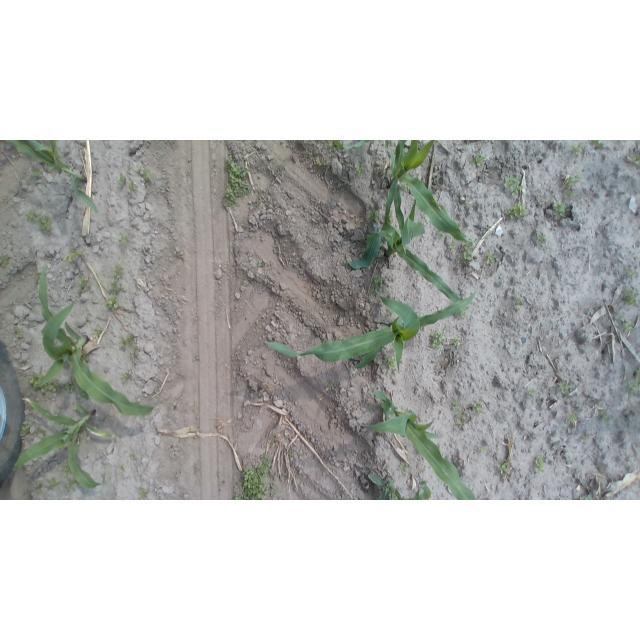Maize: (35, 256, 157, 416), (260, 288, 478, 369), (352, 141, 476, 256), (348, 194, 466, 307), (364, 389, 477, 499), (11, 399, 109, 490), (3, 140, 99, 214), (365, 472, 433, 500), (333, 141, 392, 150)
Weeds: (221, 156, 253, 210), (242, 454, 279, 500), (503, 174, 523, 196), (506, 203, 529, 220), (626, 369, 640, 396), (563, 170, 583, 187), (370, 273, 386, 294), (136, 165, 154, 183), (553, 202, 571, 218), (38, 215, 53, 234), (534, 454, 547, 475), (428, 332, 444, 349), (28, 372, 44, 388), (623, 289, 637, 307), (64, 250, 85, 262), (498, 460, 513, 476), (120, 334, 137, 348), (456, 412, 470, 429), (42, 382, 60, 394), (472, 153, 487, 167), (66, 477, 81, 491), (368, 208, 380, 225), (571, 143, 585, 157), (331, 140, 346, 153), (64, 380, 77, 395), (107, 296, 120, 311), (558, 380, 571, 395), (621, 320, 634, 333), (471, 400, 484, 413), (138, 487, 151, 500), (462, 248, 473, 263), (353, 165, 368, 176), (26, 209, 37, 224), (567, 413, 579, 426), (385, 356, 397, 369), (112, 267, 124, 280), (126, 181, 138, 194), (598, 409, 610, 422), (117, 174, 128, 188), (109, 282, 123, 293), (563, 189, 577, 200), (118, 232, 130, 244), (46, 477, 58, 489), (398, 462, 409, 475), (485, 251, 495, 265), (13, 328, 24, 340), (537, 233, 548, 245), (626, 268, 638, 279), (1, 255, 12, 266), (513, 296, 523, 308), (61, 463, 71, 475), (33, 479, 43, 491), (20, 425, 30, 437), (630, 153, 639, 166), (80, 279, 89, 292), (121, 371, 131, 382), (93, 327, 104, 337), (175, 249, 185, 260), (256, 259, 266, 269), (458, 308, 468, 318), (581, 433, 592, 442), (316, 156, 325, 167), (592, 140, 604, 148), (82, 354, 91, 364), (579, 493, 593, 499), (30, 169, 42, 176), (453, 338, 462, 347), (528, 388, 538, 396), (449, 241, 456, 252), (326, 381, 335, 389), (479, 445, 488, 453), (129, 453, 137, 462), (452, 402, 460, 411), (37, 427, 47, 434), (402, 181, 410, 189), (233, 493, 242, 500), (45, 164, 55, 170), (194, 352, 201, 360), (130, 348, 138, 355), (284, 451, 292, 458), (299, 449, 306, 456), (258, 199, 263, 205), (269, 439, 275, 444), (245, 222, 250, 228), (62, 426, 67, 431), (237, 481, 242, 486), (439, 231, 445, 235), (392, 371, 396, 377), (119, 469, 123, 472)
